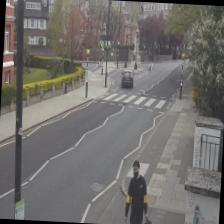person: (123, 159, 149, 224)
